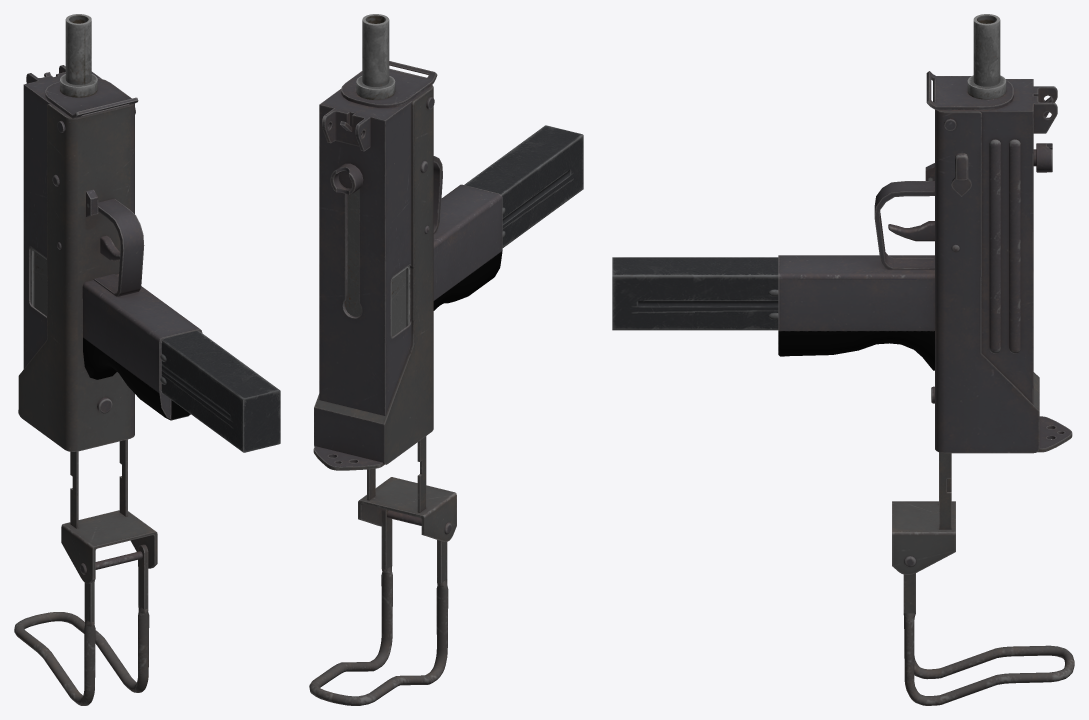
The model's file is mac10.glb.
3 renders of one model, left to right at view 1: azimuth 30°, elevation 25°; view 2: azimuth 150°, elevation 25°; view 3: azimuth 270°, elevation 25°, orthographic. The views are drawn at different scales.
Visible parts, largest first — view 1: WeaponGrip; view 2: WeaponGrip; view 3: WeaponGrip.
Boxes of the visible parts, box(x1,y1,x2,y2) form: WeaponGrip: box(14, 14, 280, 705); WeaponGrip: box(309, 14, 583, 705); WeaponGrip: box(612, 14, 1074, 705).
Bounding box in the file's own units: 0.0673 × 0.55 × 0.3429.
1 material, 1 textured.
